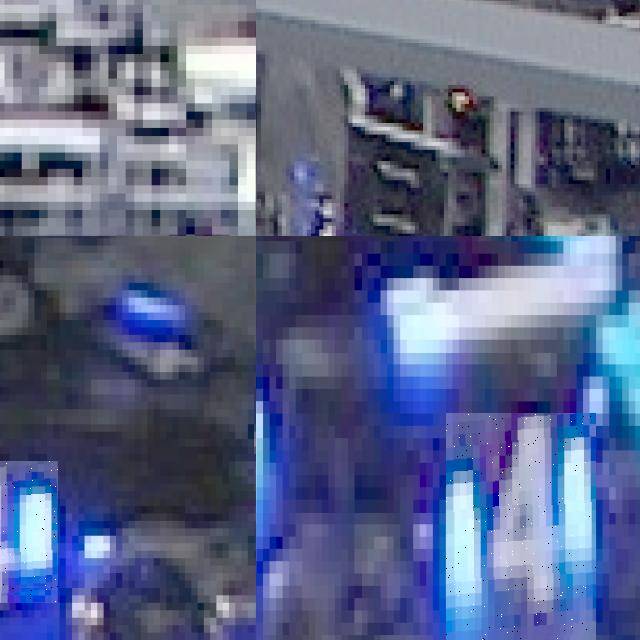B2: (273, 195, 340, 236)
B4: (446, 413, 596, 640), (0, 461, 59, 602)
